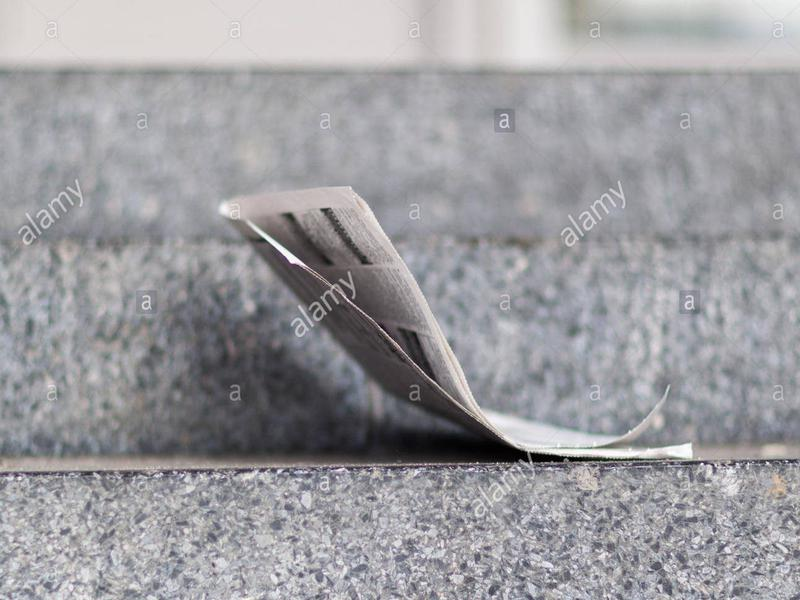paper: (206, 164, 702, 465)
